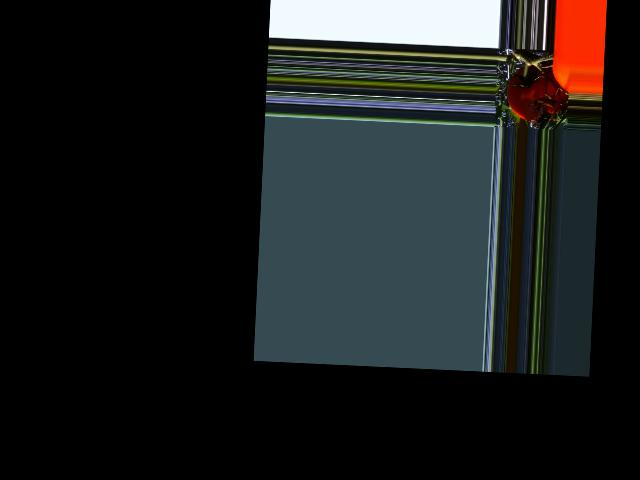tomato: (505, 63, 568, 123)
